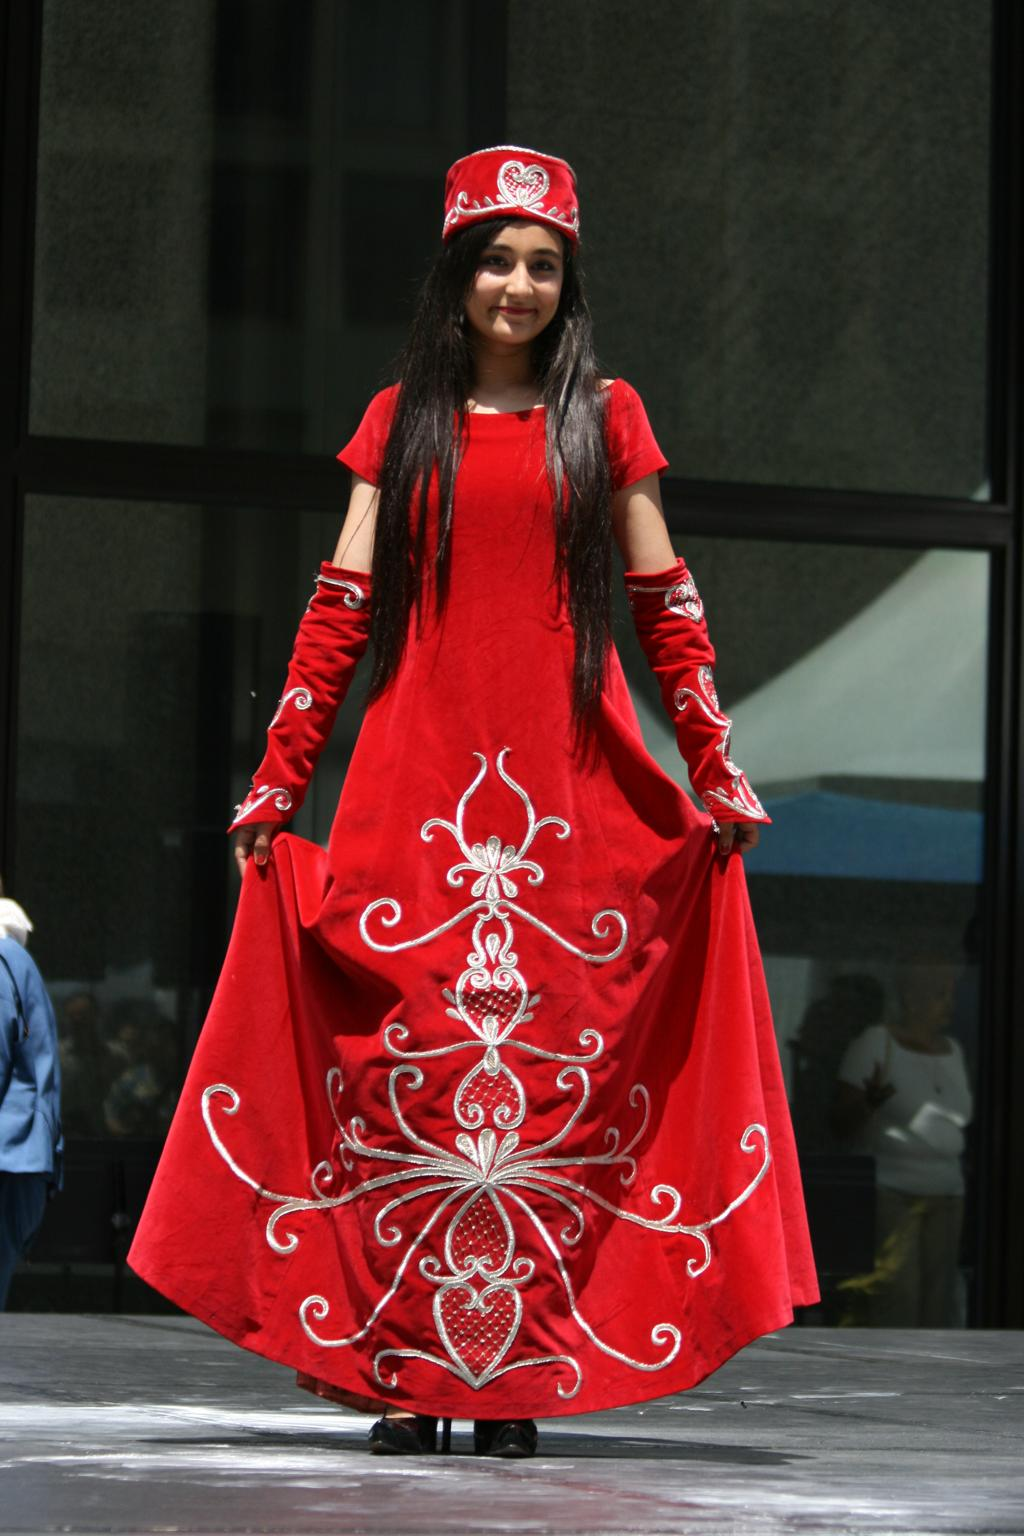face: (460, 219, 564, 341), (919, 979, 952, 1028), (831, 990, 867, 1032), (797, 1011, 833, 1053), (128, 1011, 156, 1054), (64, 1003, 92, 1041)
